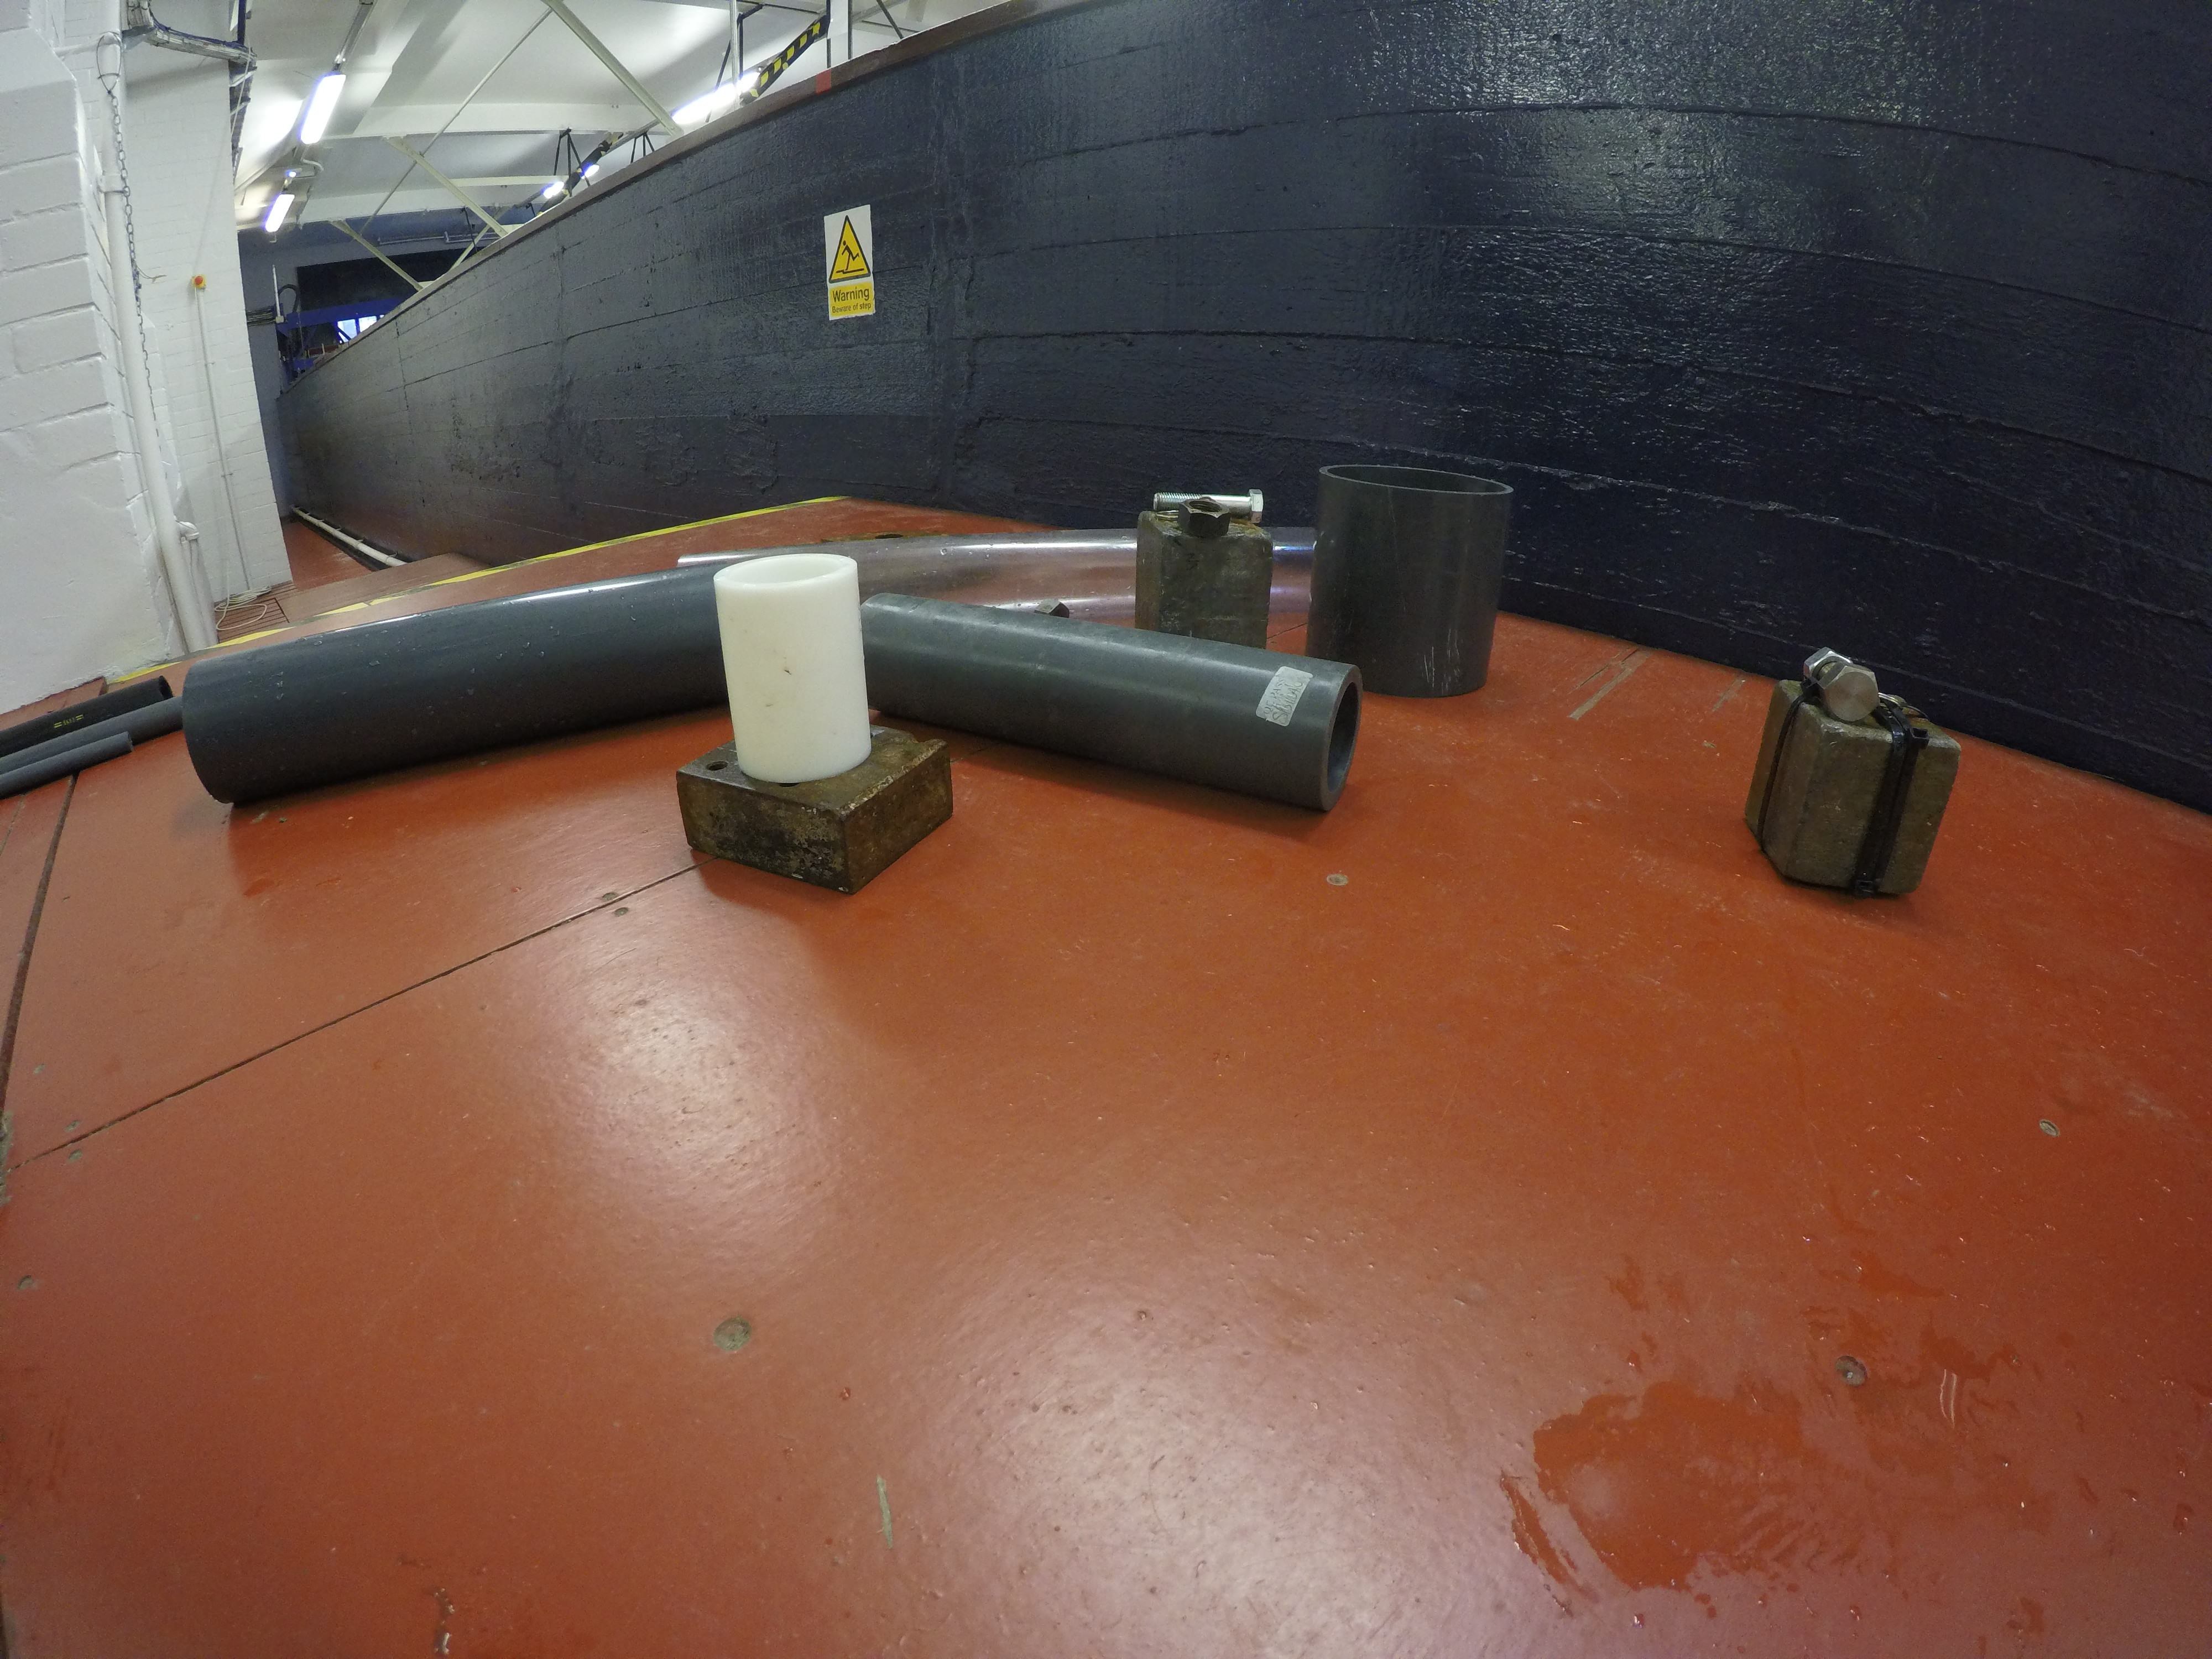bolt: (1804, 648, 1879, 723), (1150, 488, 1264, 523)
led_block: (1743, 680, 1963, 897), (676, 723, 954, 894), (1136, 511, 1275, 647)
nut: (1177, 498, 1233, 537), (1797, 645, 1848, 678), (1033, 598, 1069, 617)
pipe: (183, 563, 728, 805), (864, 592, 1364, 812), (1306, 462, 1514, 697), (676, 525, 1141, 619), (714, 552, 871, 784), (0, 695, 183, 772), (0, 674, 172, 751), (0, 730, 134, 793)
